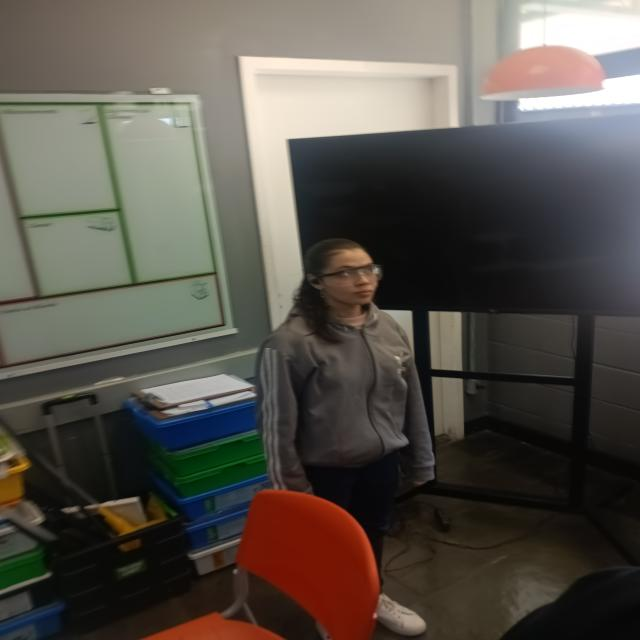oculos-epi: (317, 265, 382, 286)
